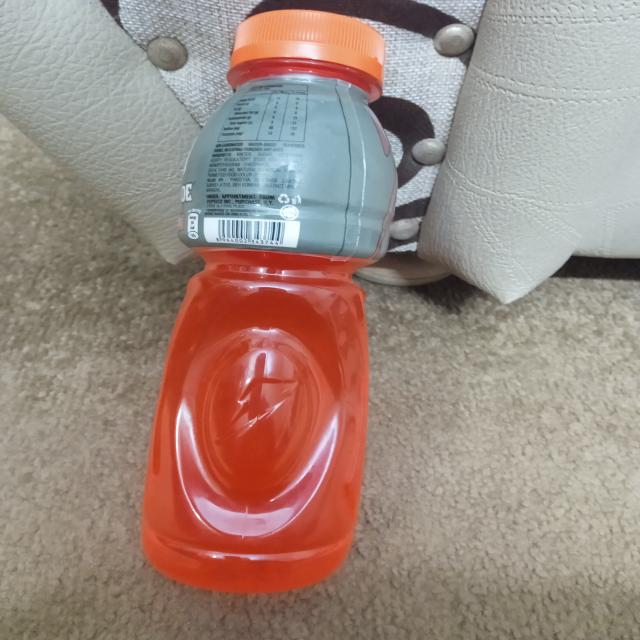Plastic: (138, 8, 403, 595)
